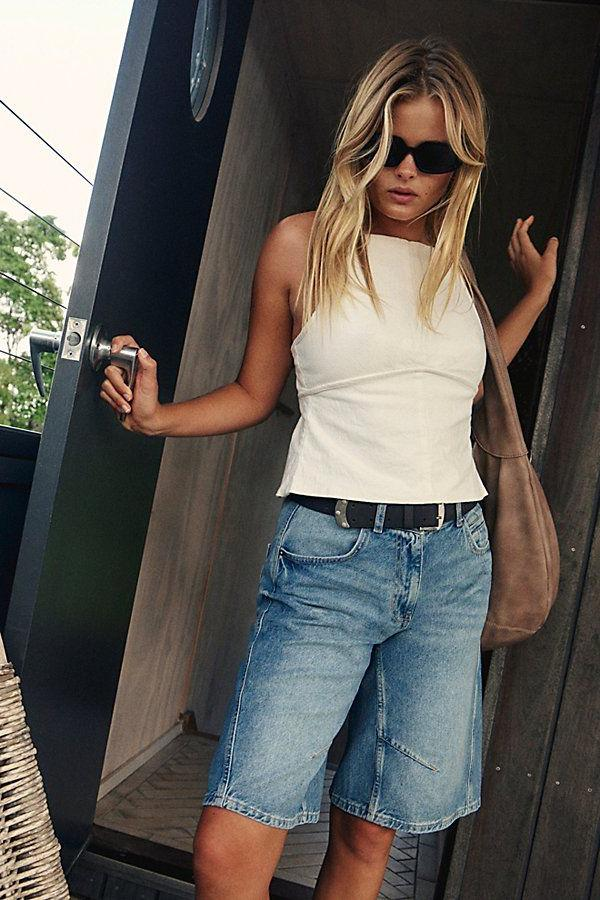Shorts: (201, 489, 493, 840)
vest: (270, 235, 489, 506)
